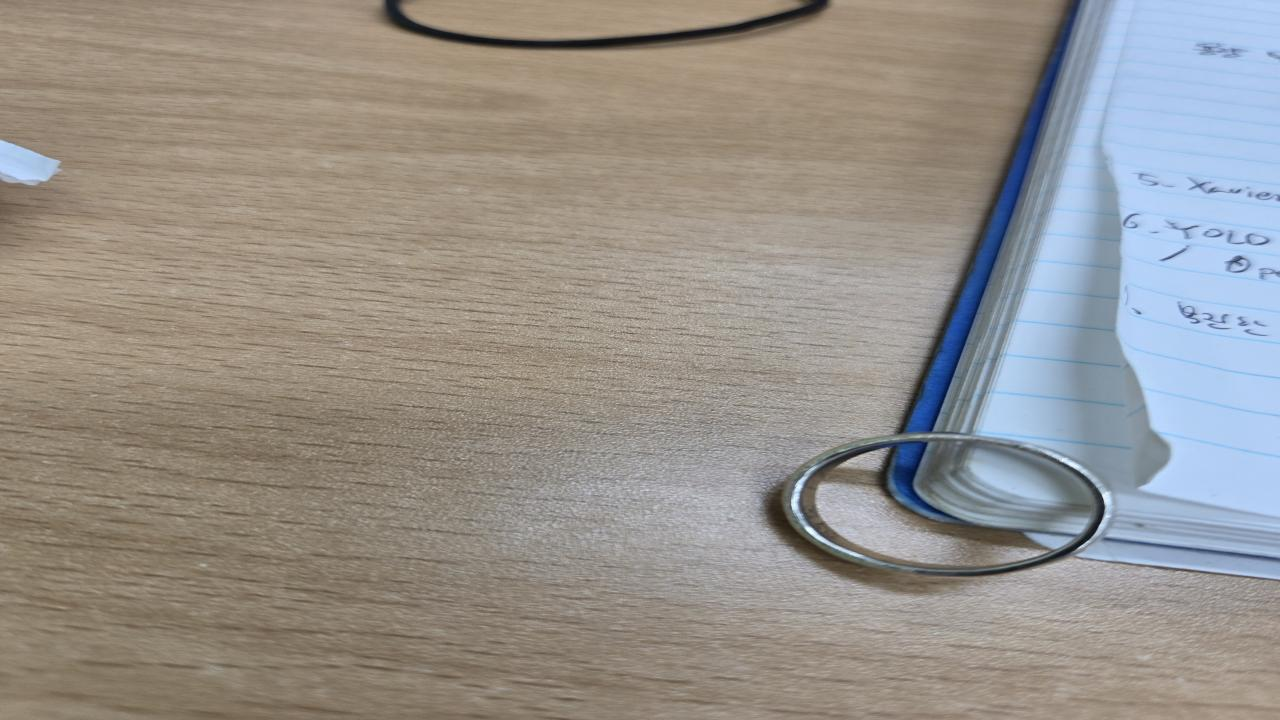ring: (775, 429, 1115, 580)
